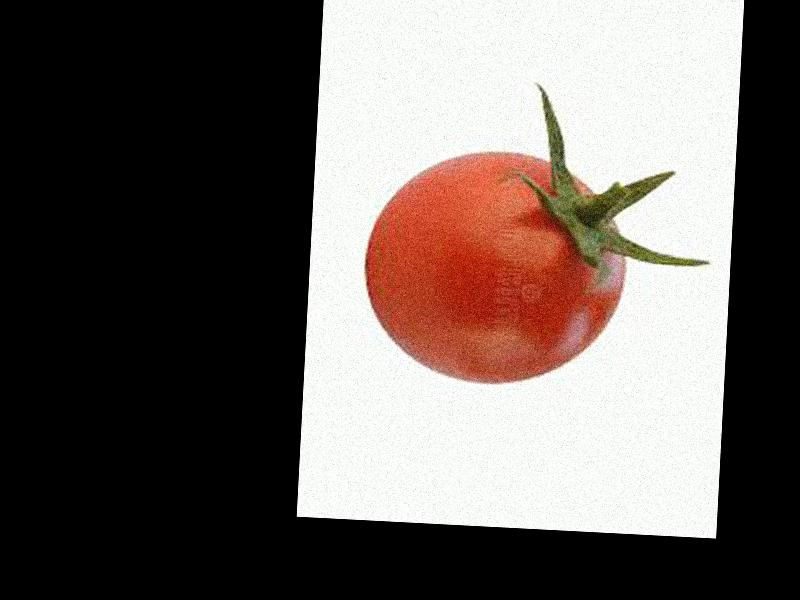Tomato: (358, 147, 629, 391)
